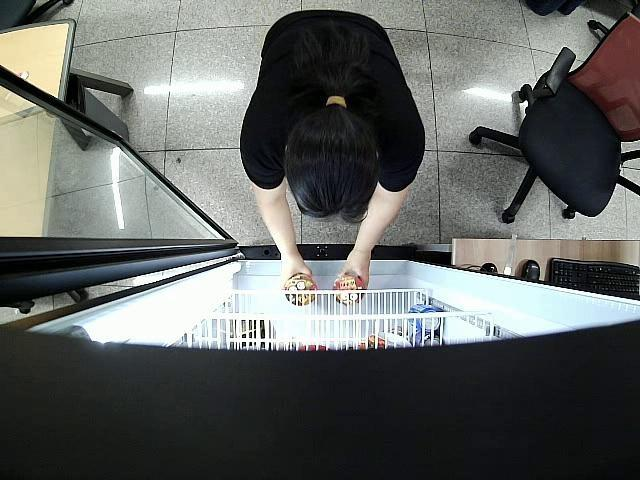06_nuguri_S: (282, 276, 320, 308), (334, 277, 368, 309)
